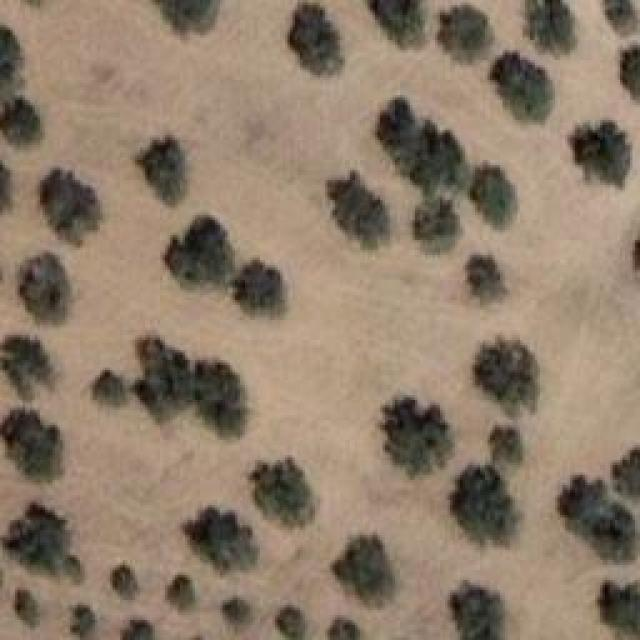Tree: (378, 103, 471, 192), (443, 460, 527, 548), (3, 504, 90, 582), (558, 475, 634, 560), (381, 392, 458, 474), (135, 335, 193, 427), (470, 335, 542, 408), (37, 168, 107, 240), (327, 532, 397, 603), (568, 113, 632, 190), (3, 410, 68, 484), (482, 55, 553, 122), (328, 173, 394, 245), (183, 505, 255, 571), (15, 250, 77, 324), (192, 360, 248, 436), (165, 218, 229, 283), (250, 458, 310, 526), (287, 0, 344, 70), (0, 338, 55, 410), (445, 577, 511, 634), (468, 160, 521, 230), (235, 258, 291, 323), (140, 133, 197, 195), (437, 0, 494, 59), (525, 0, 583, 54), (408, 198, 458, 254), (597, 577, 640, 637), (148, 0, 222, 34), (372, 0, 422, 46), (462, 257, 509, 303), (3, 98, 42, 150), (0, 25, 29, 91), (612, 448, 640, 503), (485, 423, 519, 464), (88, 370, 121, 411), (272, 605, 310, 640), (603, 0, 638, 38), (65, 603, 100, 640), (15, 588, 47, 628), (112, 565, 145, 601), (620, 42, 640, 100), (168, 573, 196, 612), (218, 597, 248, 629), (0, 160, 16, 218), (325, 617, 360, 640), (120, 622, 153, 640)
